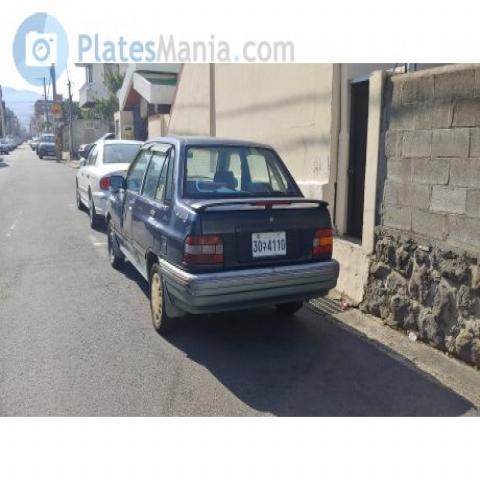LP: (246, 222, 291, 269)
